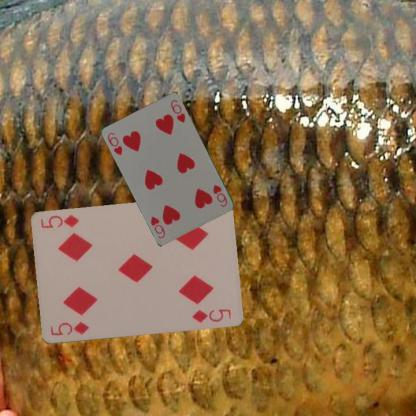5d: (48, 320, 90, 338)
6h: (210, 181, 229, 208), (105, 130, 124, 157)
